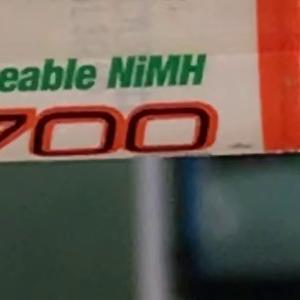keyword: (97, 44, 216, 98)
